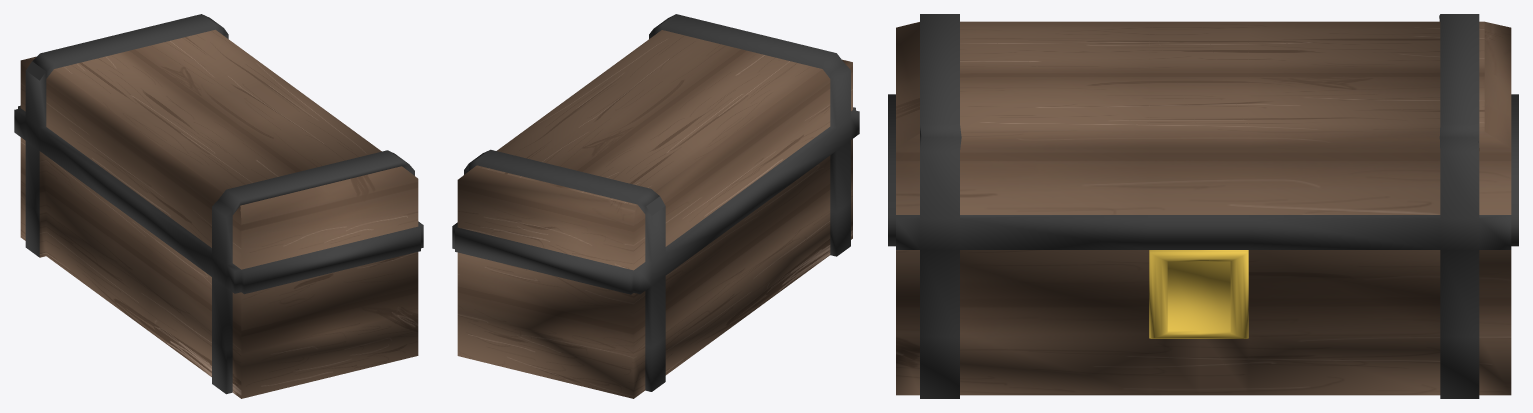
File: Chest.fbx
The picture shows the model from 3 angles, left to right: view 1: azimuth 30°, elevation 25°; view 2: azimuth 150°, elevation 25°; view 3: azimuth 270°, elevation 25°; orthographic projection. The views are drawn at different scales.
Visible parts, largest first — view 1: Cube; view 2: Cube; view 3: Cube.
Boxes of the visible parts, <box> form: Cube: <box>14,14,423,398</box>; Cube: <box>452,14,859,398</box>; Cube: <box>888,14,1518,398</box>.
Size of the model in its own units: 220 by 206 by 442.
3 materials, 1 textured.
